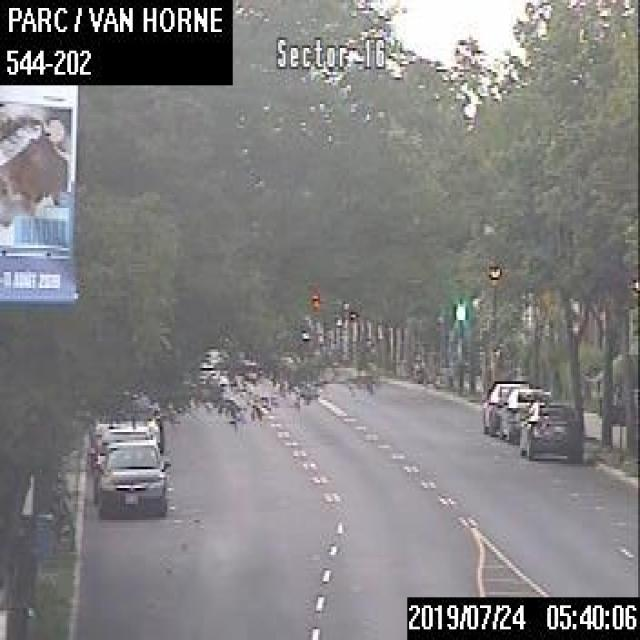vehicle: (92, 437, 170, 515), (518, 400, 582, 459), (495, 386, 552, 442), (480, 378, 531, 432), (97, 425, 159, 458)
